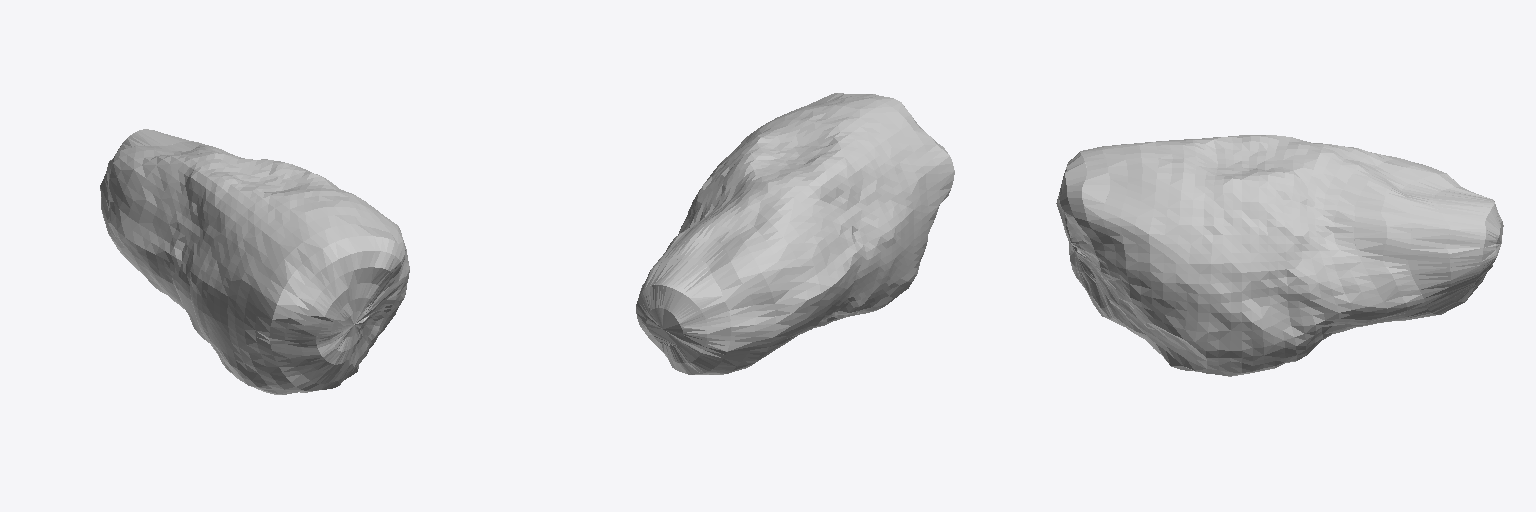
The model's file is 1682q1halley_MLfix.obj.
The picture shows the model from 3 angles: view 1: azimuth 30°, elevation 25°; view 2: azimuth 150°, elevation 25°; view 3: azimuth 270°, elevation 25°; orthographic projection.
Bounding box in the file's own units: 7.58 × 7.53 × 15.14.